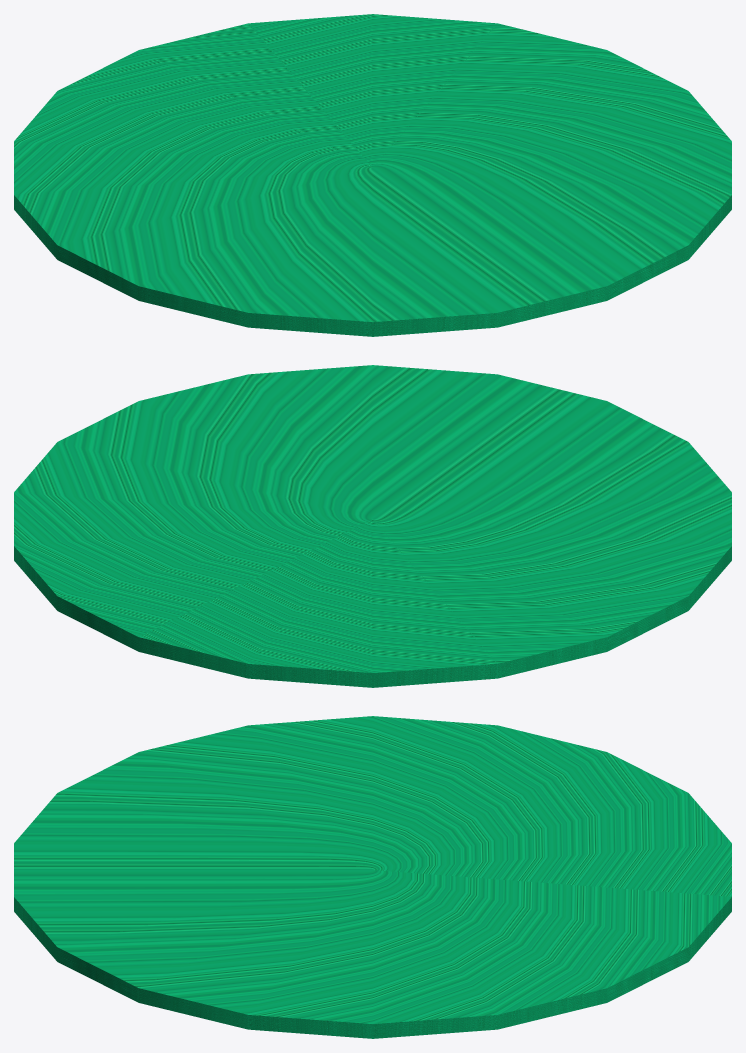
File: green.FBX
3 renders of one model, top to bottom at view 1: azimuth 30°, elevation 25°; view 2: azimuth 150°, elevation 25°; view 3: azimuth 270°, elevation 25°, orthographic.
Visible parts, largest first — view 1: Cylinder001; view 2: Cylinder001; view 3: Cylinder001.
Boxes of the visible parts, <box> form: Cylinder001: <box>14,14,731,336</box>; Cylinder001: <box>14,365,731,687</box>; Cylinder001: <box>14,716,731,1038</box>.
Size of the model in its own units: 2509 by 55.97 by 2471.
1 material, 1 textured.
